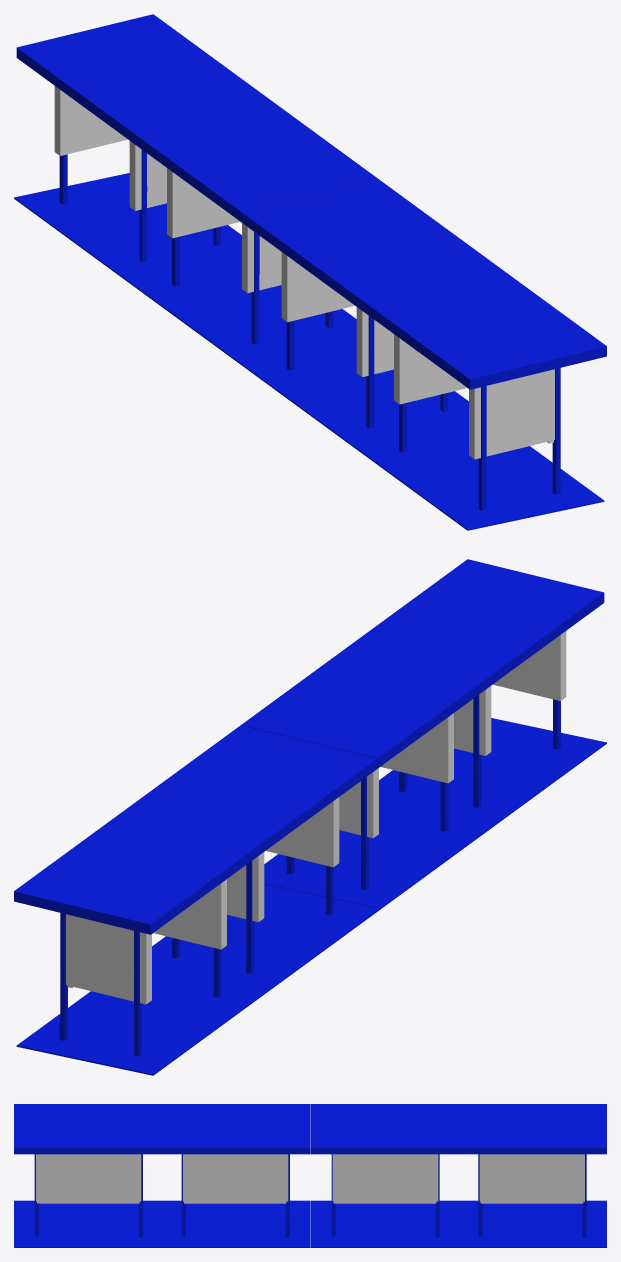
File: ４列に並んだ机.fbx
3 views of the same model, one above another, from view 1: azimuth 30°, elevation 25°; view 2: azimuth 150°, elevation 25°; view 3: azimuth 270°, elevation 25° (orthographic). The views are drawn at different scales.
Visible parts, largest first — view 1: 立方体.094, 立方体.020, 立方体.004, 立方体.110, 立方体.095, 立方体.021, 立方体.111, 立方体.005, 立方体.103, 立方体.105, 立方体.014, 立方体.104 (+9 smaller); view 2: 立方体.004, 立方体.020, 立方体.094, 立方体.110, 立方体.005, 立方体.111, 立方体.095, 立方体.021, 立方体.014, 立方体.016, 立方体.103, 立方体.013 (+5 smaller); view 3: 立方体.094, 立方体.020, 立方体.110, 立方体.004, 立方体.005, 立方体.111, 立方体.021, 立方体.095, 立方体, 立方体.029, 立方体.090, 立方体.119 (+16 smaller).
Boxes of the visible parts, x1,y1,x2,y2 form: 立方体.094: (356,262,606,452); 立方体.020: (129,96,379,286); 立方体.004: (16,14,265,204); 立方体.110: (243,180,492,370); 立方体.095: (353,423,604,530); 立方体.021: (127,255,356,364); 立方体.111: (241,339,468,447); 立方体.005: (14,173,241,281); 立方体.103: (469,369,554,459); 立方体.105: (281,252,354,322); 立方体.014: (54,86,127,155); 立方体.104: (394,334,466,404); 立方体.004: (14,809,262,1056); 立方体.020: (127,725,377,973); 立方体.094: (353,559,604,807); 立方体.110: (241,643,491,890); 立方体.005: (16,966,267,1075); 立方体.111: (264,800,492,909); 立方体.095: (379,718,606,826); 立方体.021: (152,884,379,992); 立方体.014: (66,914,151,1004); 立方体.016: (266,797,339,867); 立方体.103: (493,631,566,700); 立方体.013: (154,879,226,949); 立方体.094: (14,1104,163,1154); 立方体.020: (310,1104,459,1154); 立方体.110: (161,1104,310,1211); 立方体.004: (457,1104,606,1154); 立方体.005: (457,1200,606,1247); 立方体.111: (161,1200,310,1247); 立方体.021: (310,1200,458,1247); 立方体.095: (14,1200,163,1247); 立方体: (480,1154,583,1203); 立方体.029: (333,1154,436,1203); 立方体.090: (37,1154,139,1203); 立方体.119: (184,1154,286,1203).
Bounding box in the file's own units: 2841 × 3018 × 16023.
